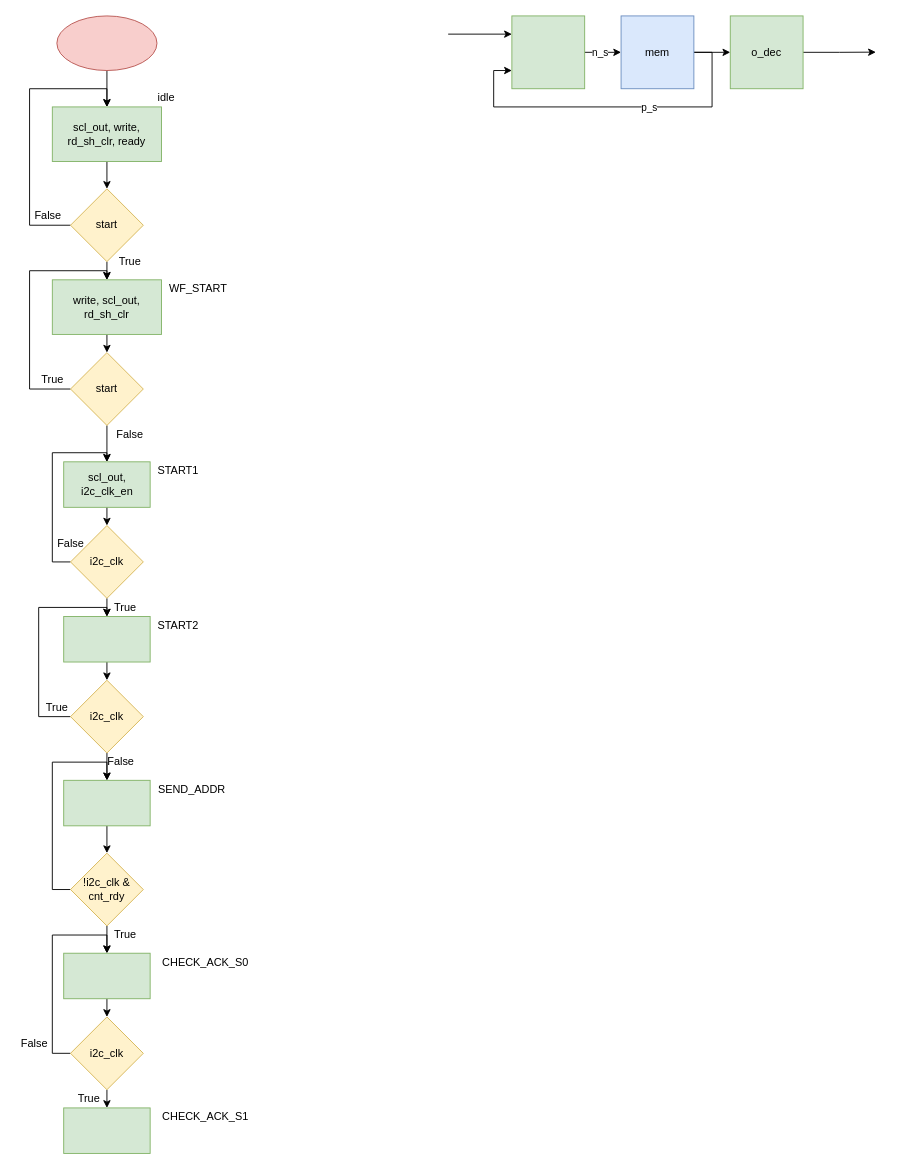
The diagram is 899 pixels wide and 1169 high, and some of its shapes have lost their labels. The shapes that lost their labels are listed below. From the top down, each one's centre as x and y in pixels, then its label:
(x=106, y=43): nrst
(x=548, y=52): i_dec
(x=106, y=639): i2c_clk_en
(x=106, y=802): sel_out, i2c_clk_en, count_en
(x=106, y=975): i2c_clk_en, tri_write
(x=106, y=1130): i2c_clk_en scl_out, tri_write
